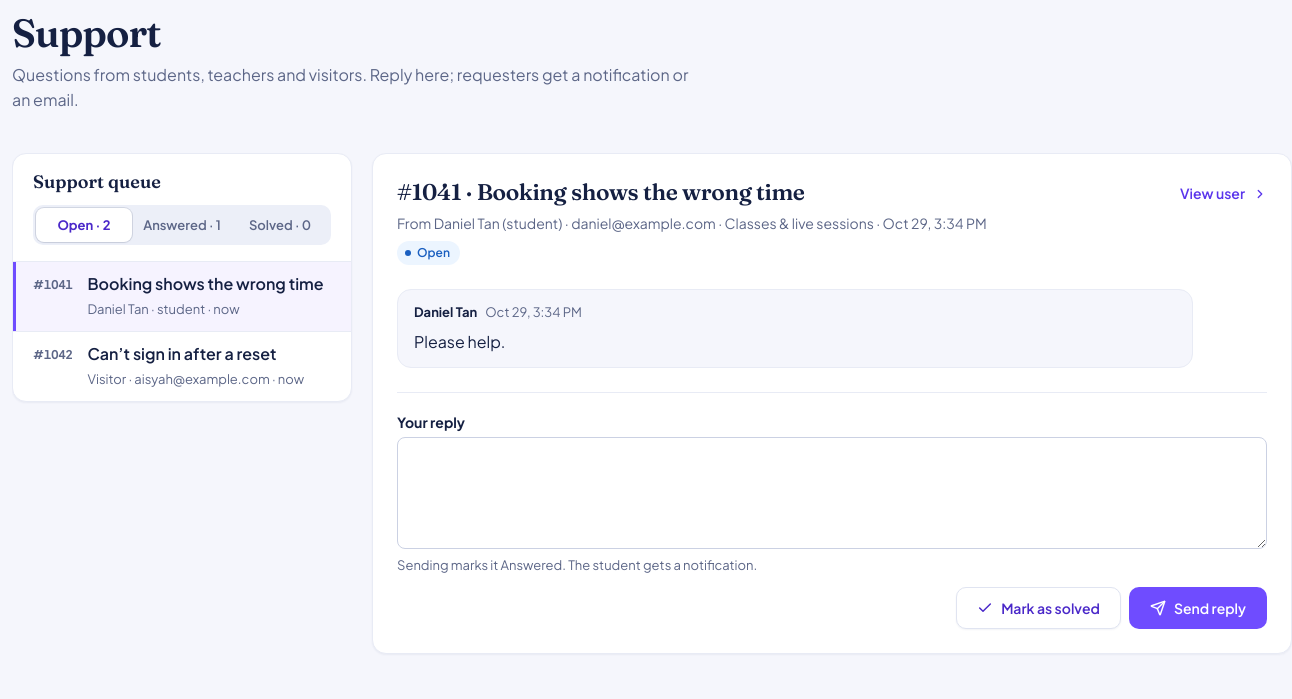
it: AdminSupportPage › needs a reply before sending it and confirms who was told
Step 1. Submit the form with class "admin-support-reply" that starts with "Your reply", box [397, 392, 1267, 629]
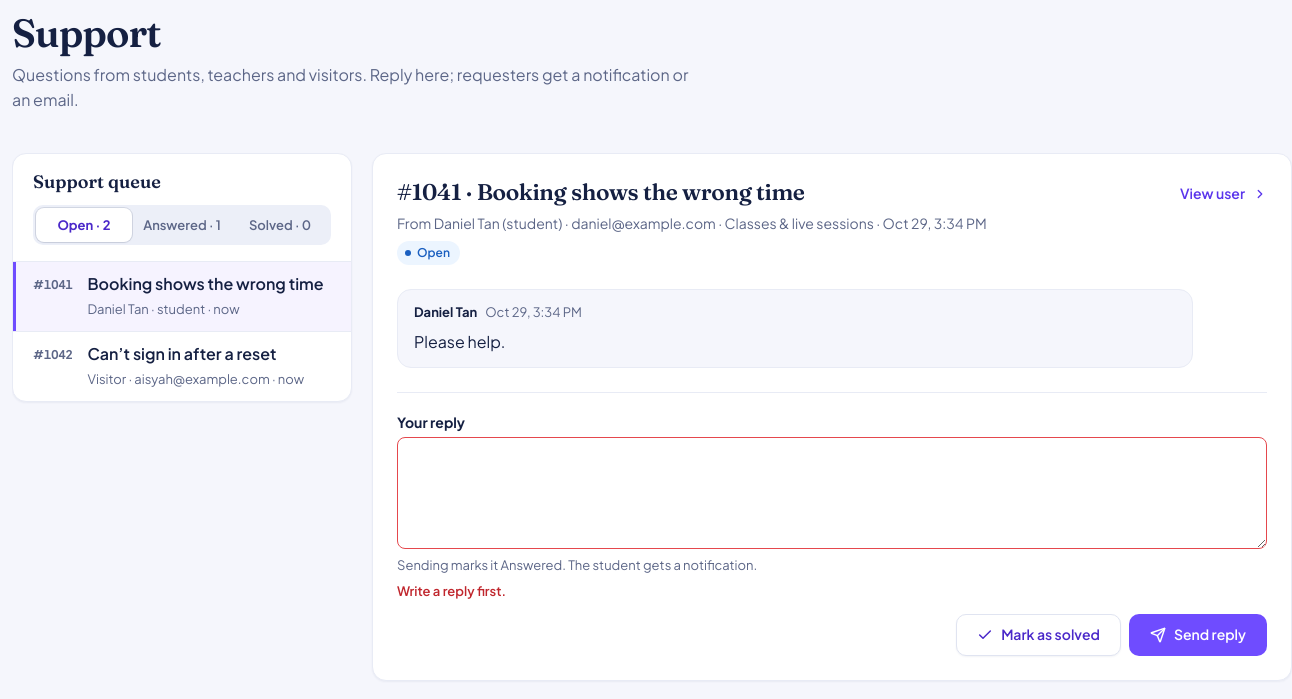
Check: the text "Write a reply first." is shown, box [397, 583, 506, 599]
Step 2. Type "  The time is now fixed.  " into the text box with test id "admin-support-reply" showing "Your reply" → (832, 493), box [397, 437, 1267, 549]
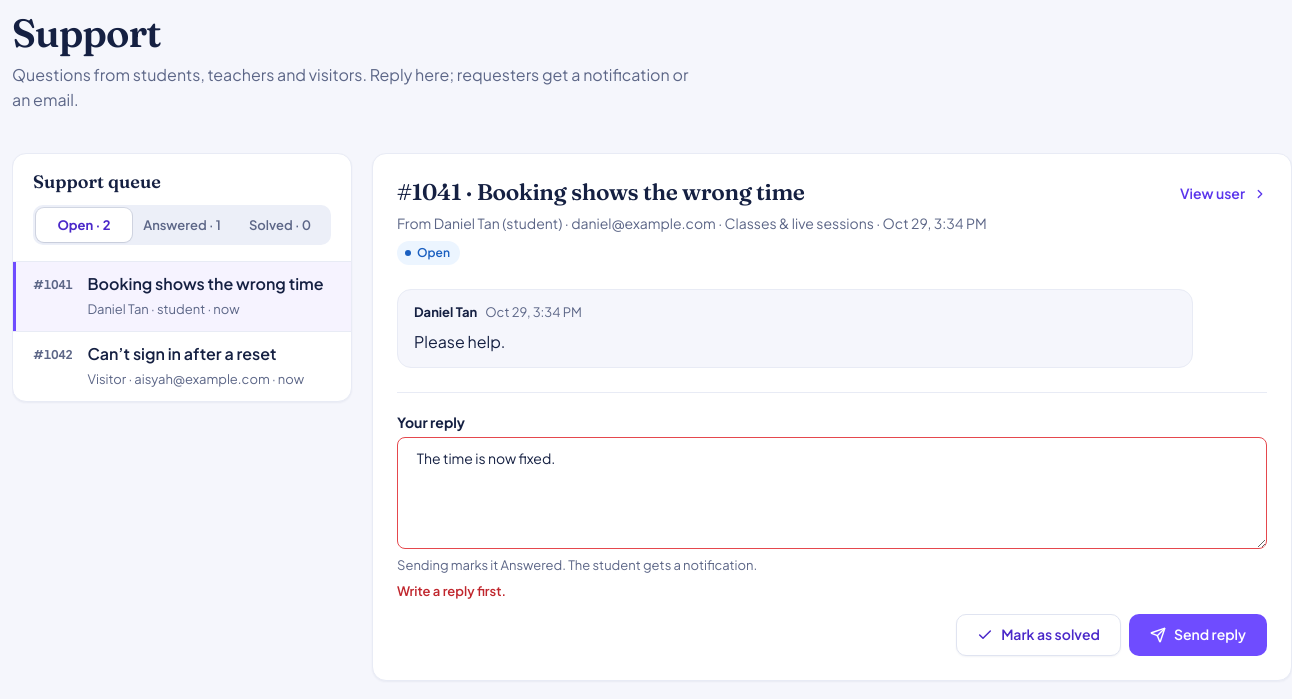
Step 3. Submit the form with class "admin-support-reply" that starts with "Your reply", box [397, 392, 1267, 656]
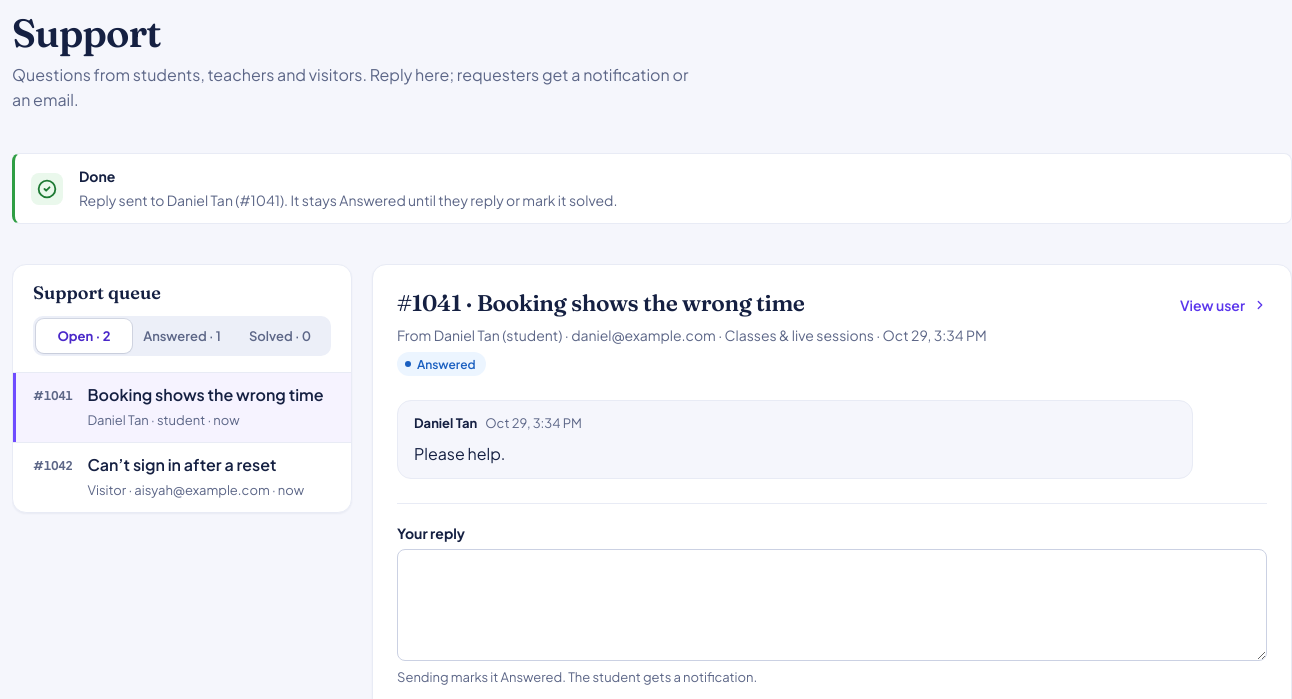
Check: the text "Reply sent to Daniel Tan (#1041)." is shown, box [79, 191, 618, 209]
Check: the text box with test id "admin-support-reply" is empty, box [397, 549, 1267, 661]
